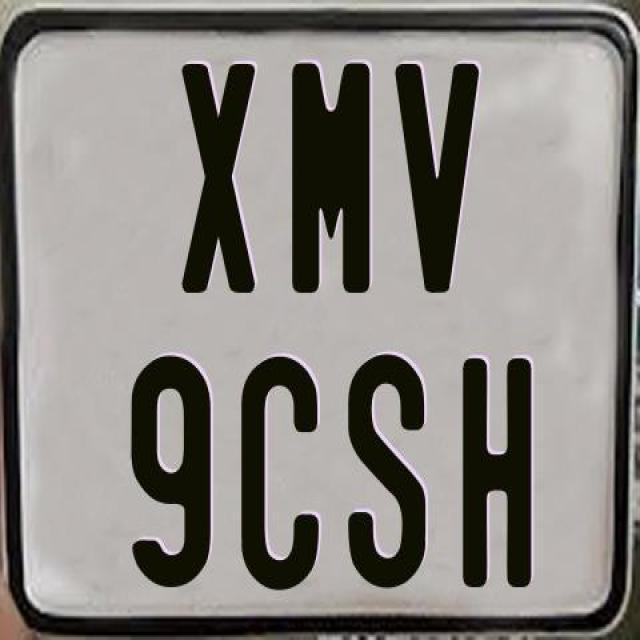9: (131, 350, 217, 586)
C: (240, 354, 322, 590)
H: (461, 358, 535, 592)
M: (290, 62, 370, 301)
S: (344, 348, 427, 586)
V: (392, 62, 477, 292)
X: (177, 64, 256, 298)
